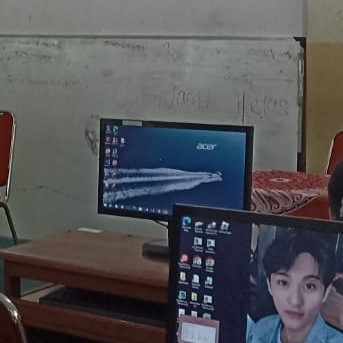monitor: (166, 203, 342, 340), (97, 118, 254, 226), (175, 315, 220, 343)
